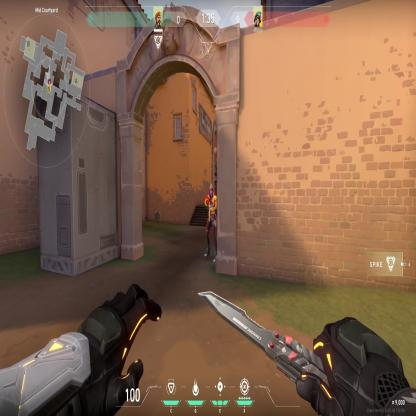enemy: (203, 181, 218, 263)
